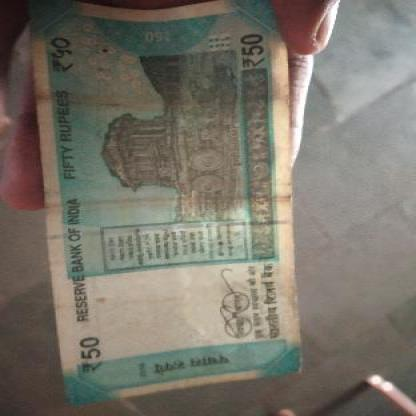New50Back: (25, 0, 296, 385)
